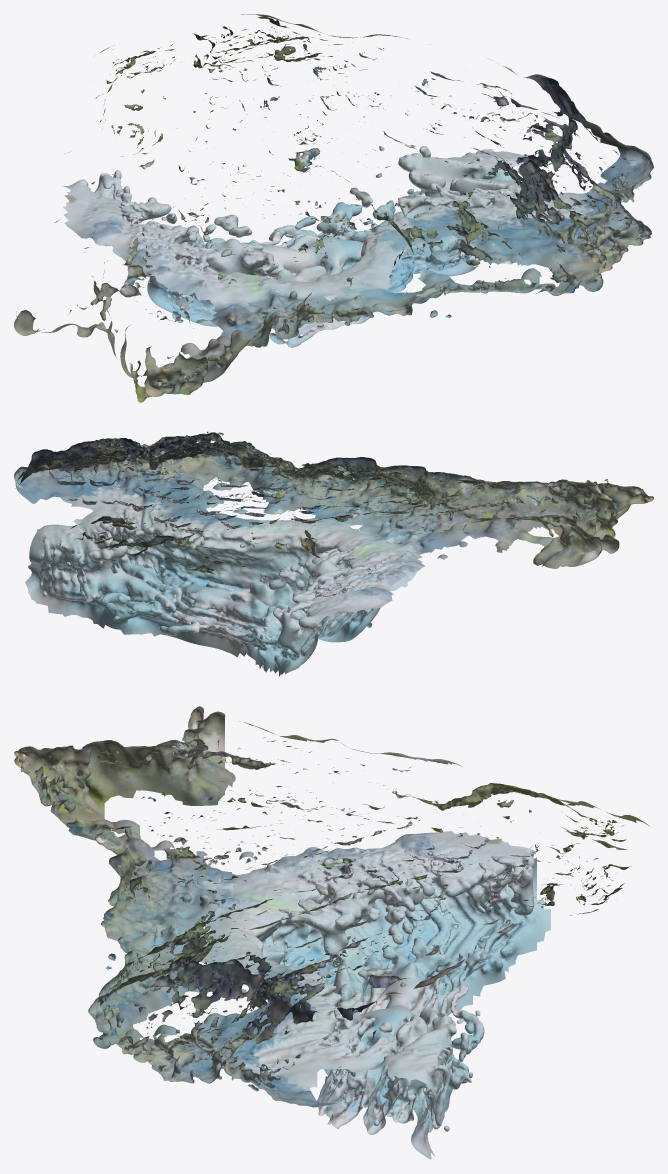
3 renders of one model, top to bottom at view 1: azimuth 30°, elevation 25°; view 2: azimuth 150°, elevation 25°; view 3: azimuth 270°, elevation 25°, orthographic. The views are drawn at different scales.
Parts seen in each view (by area): view 1: model.obj; view 2: model.obj; view 3: model.obj.
Part boxes in pixels (x1,y1,x2,y2): model.obj: [14, 14, 653, 402]; model.obj: [14, 431, 653, 676]; model.obj: [14, 706, 649, 1159].
Bounding box in the file's own units: 0.952 × 0.2644 × 0.7391.
